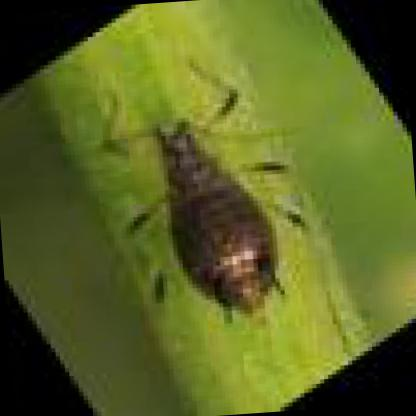uroleucon compositae: (157, 116, 277, 316)
